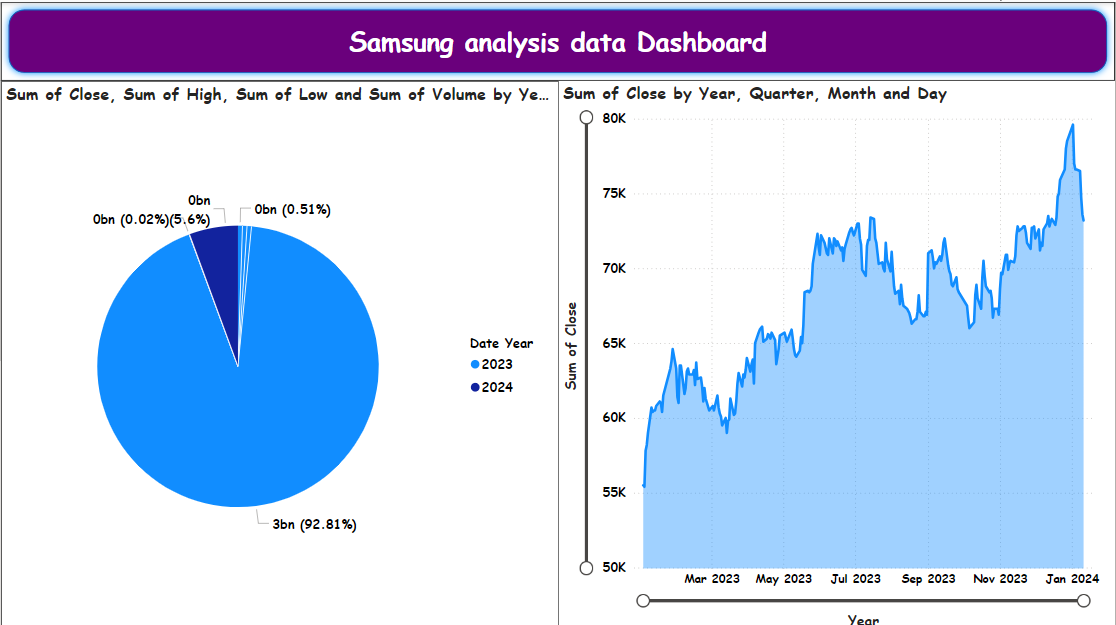

What the dashboard file says about the page in this screenshot:
{"tool":"powerbi","page":{"name":"report 3","canvas":[1280,720],"ordinal":2},"visuals":[{"type":"shape","box":[0,0,1279.6,90.6],"z":0},{"type":"pieChart","fields":{"Y":["Sum(Samsung Electronics (2023-24).Close)","Sum(Samsung Electronics (2023-24).High)","Sum(Samsung Electronics (2023-24).Low)","Sum(Samsung Electronics (2023-24).Volume)"],"Category":["Samsung Electronics (2023-24).Date.Variation.Date Hierarchy.Year","Samsung Electronics (2023-24).Date.Variation.Date Hierarchy.Quarter","Samsung Electronics (2023-24).Date.Variation.Date Hierarchy.Month","Samsung Electronics (2023-24).Date.Variation.Date Hierarchy.Day"]},"box":[0,90.6,640.6,629.8],"z":1000},{"type":"areaChart","fields":{"Y":["Sum(Samsung Electronics (2023-24).Close)"],"Category":["Samsung Electronics (2023-24).Date.Variation.Date Hierarchy.Year","Samsung Electronics (2023-24).Date.Variation.Date Hierarchy.Quarter","Samsung Electronics (2023-24).Date.Variation.Date Hierarchy.Month","Samsung Electronics (2023-24).Date.Variation.Date Hierarchy.Day"]},"box":[641,91,639,629],"z":2000}]}

Visuals, with their boxes in screenshot pixels (x1, y1, x2, y2), scaled from the page's 1280x720 canvas onto the 1116x625 screenshot:
shape: bbox=[0, 0, 1115, 79]
pieChart - Sum(Samsung Electronics (2023-24).Close) x Sum(Samsung Electronics (2023-24).High): bbox=[0, 79, 559, 624]
areaChart - Sum(Samsung Electronics (2023-24).Close) x Samsung Electronics (2023-24).Date.Variation.Date Hierarchy.Year: bbox=[559, 79, 1115, 624]
